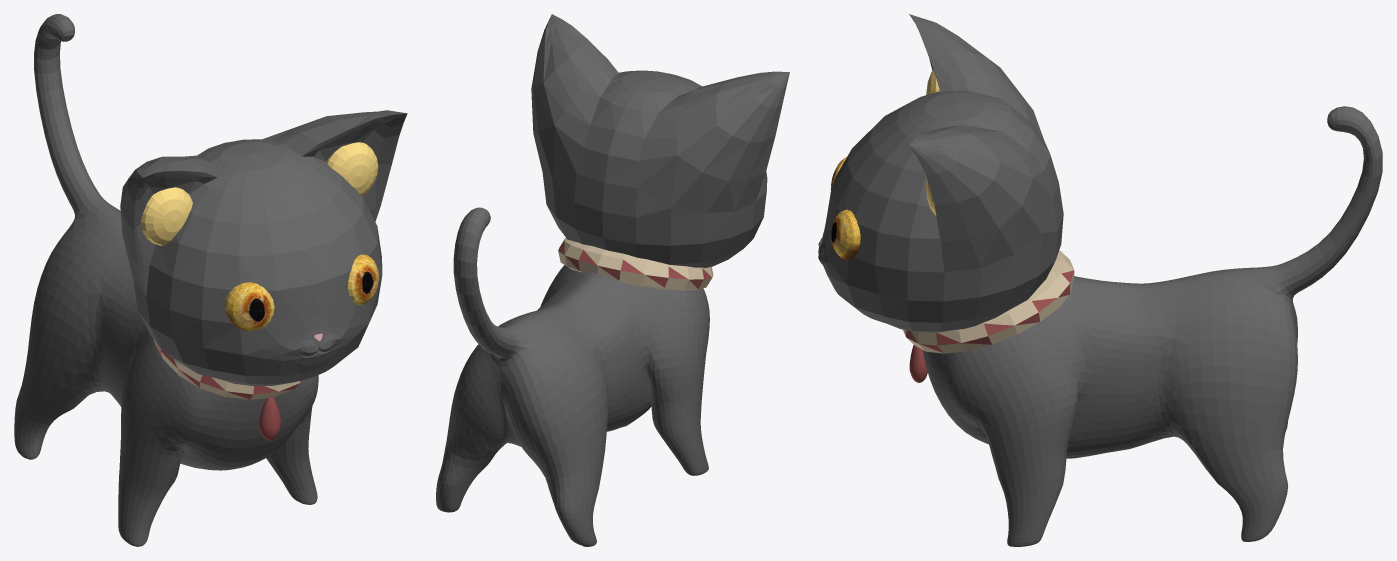
File: cat.fbx
3 views of the same model, side by side, from view 1: azimuth 30°, elevation 25°; view 2: azimuth 150°, elevation 25°; view 3: azimuth 270°, elevation 25° (orthographic). The views are drawn at different scales.
Parts seen in each view (by area): view 1: objdefault, polySurface6, polySurface3, polySurface5, polySurface2, pSphere1; view 2: objdefault; view 3: objdefault, polySurface2.
Part boxes in pixels (box(x1,y1,x2,y2)): objdefault: box(14, 14, 407, 546); polySurface6: box(140, 187, 192, 245); polySurface3: box(225, 282, 274, 331); polySurface5: box(326, 142, 378, 196); polySurface2: box(348, 254, 378, 304); pSphere1: box(259, 397, 280, 440); objdefault: box(436, 14, 789, 546); objdefault: box(818, 14, 1382, 546); polySurface2: box(830, 209, 860, 259).
Bounding box in the file's own units: 30.62 × 45.88 × 55.48.
Materials: 6 (1 with a texture image).
